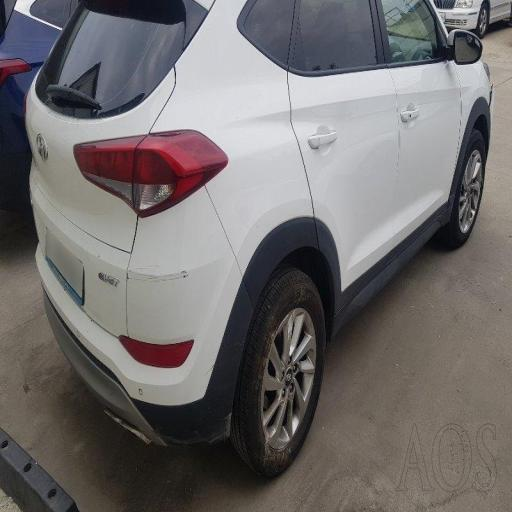broken: (81, 279, 255, 479)
scratch: (232, 77, 274, 128)
